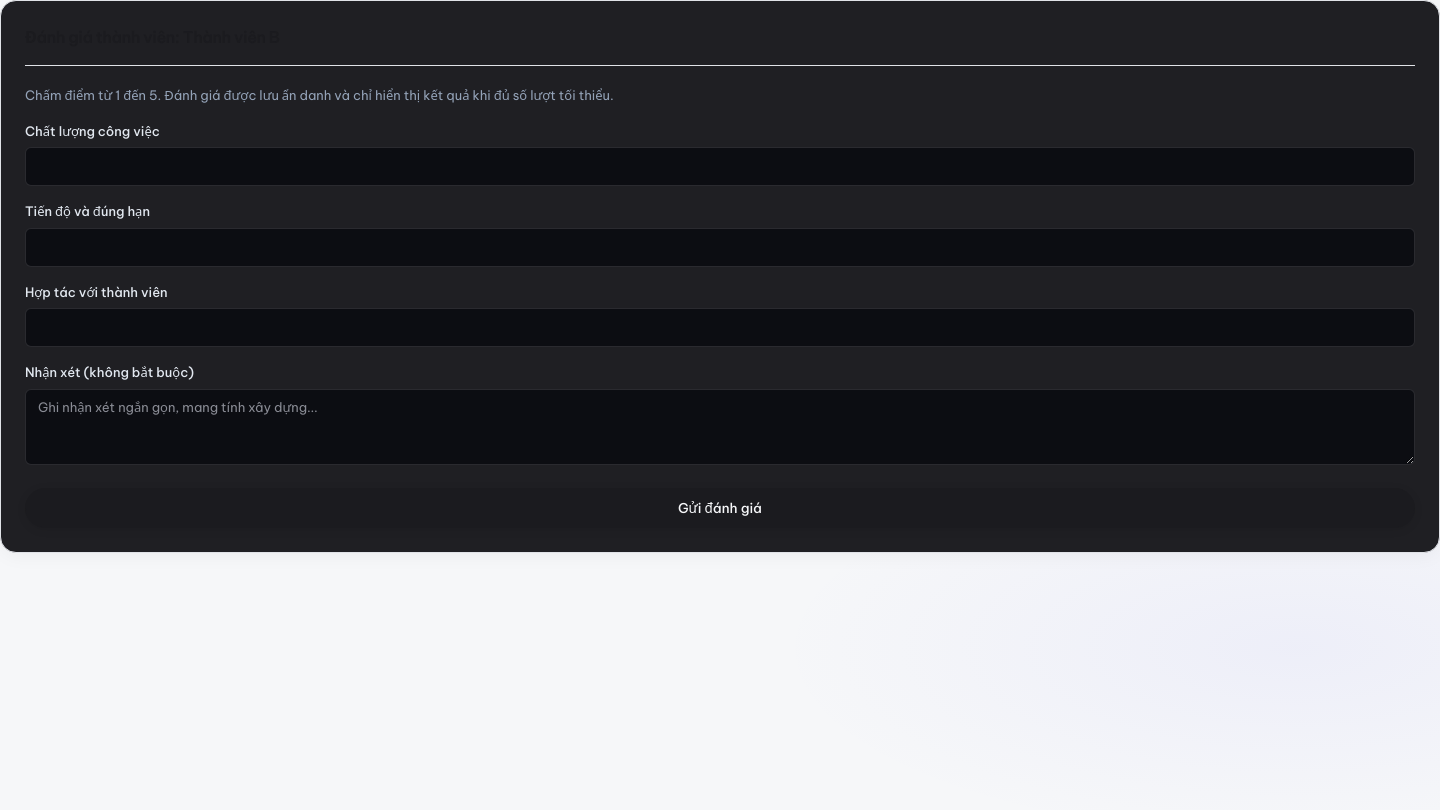
Test: ReviewForm › requires a valid score for every criterion before submitting
The width and height of the screenshot is (1440, 810).
Type "5" into the number field labelled "Chất lượng công việc" at (720, 166), box left=25, top=147, right=1415, bottom=186
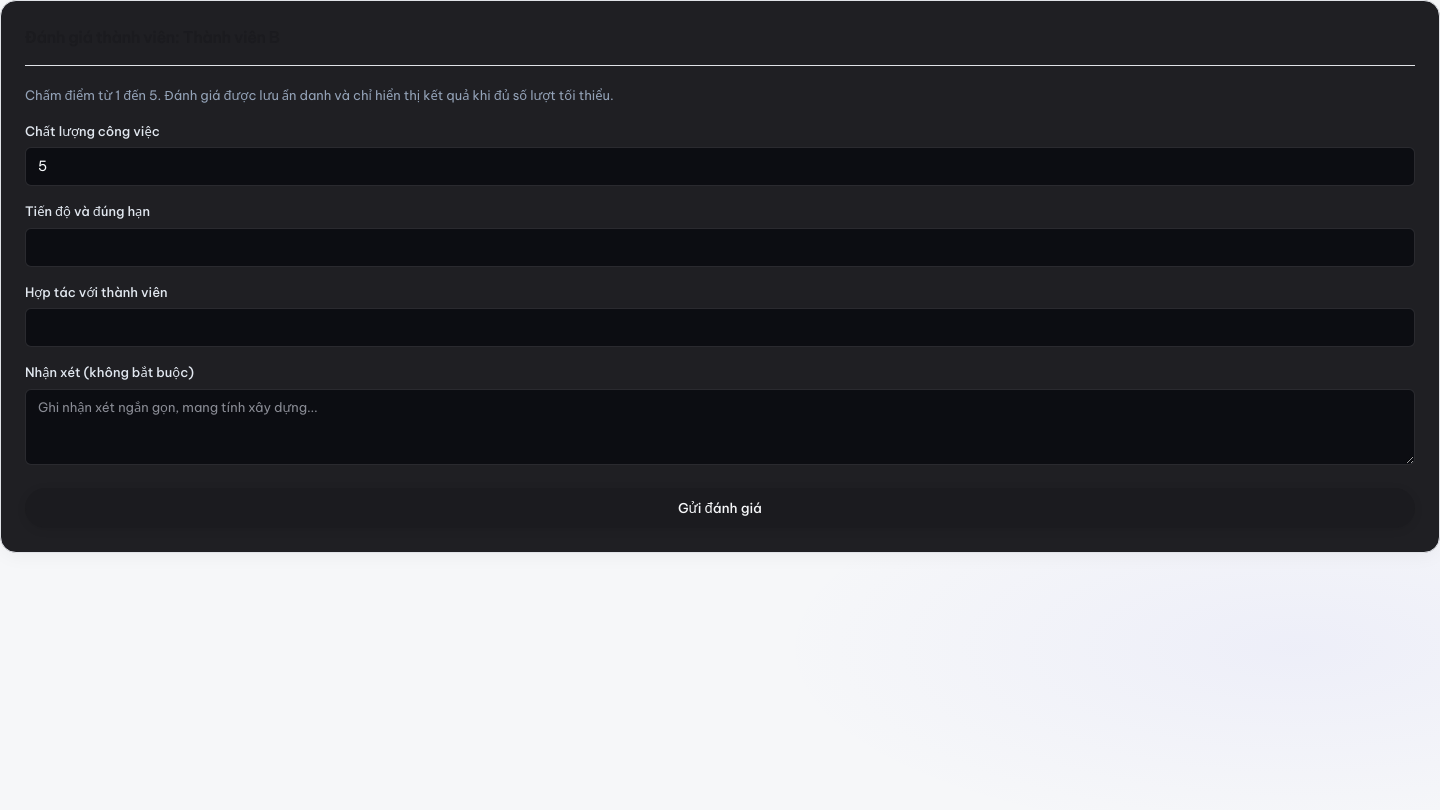
Click the button "Gửi đánh giá" at (720, 508), box left=25, top=488, right=1415, bottom=528
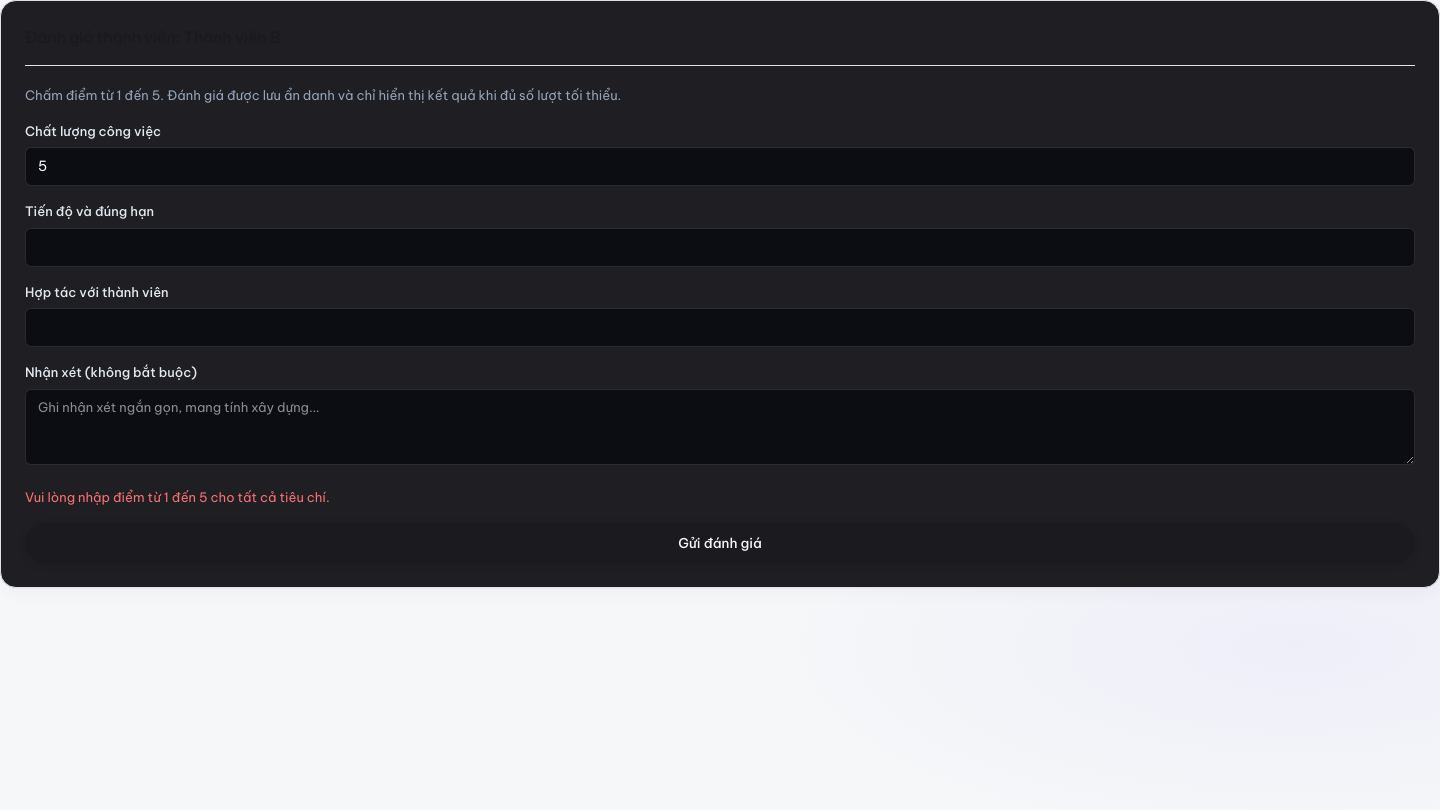
Result: the message shows "cho tất cả tiêu chí" at left=25, top=488, right=330, bottom=504
